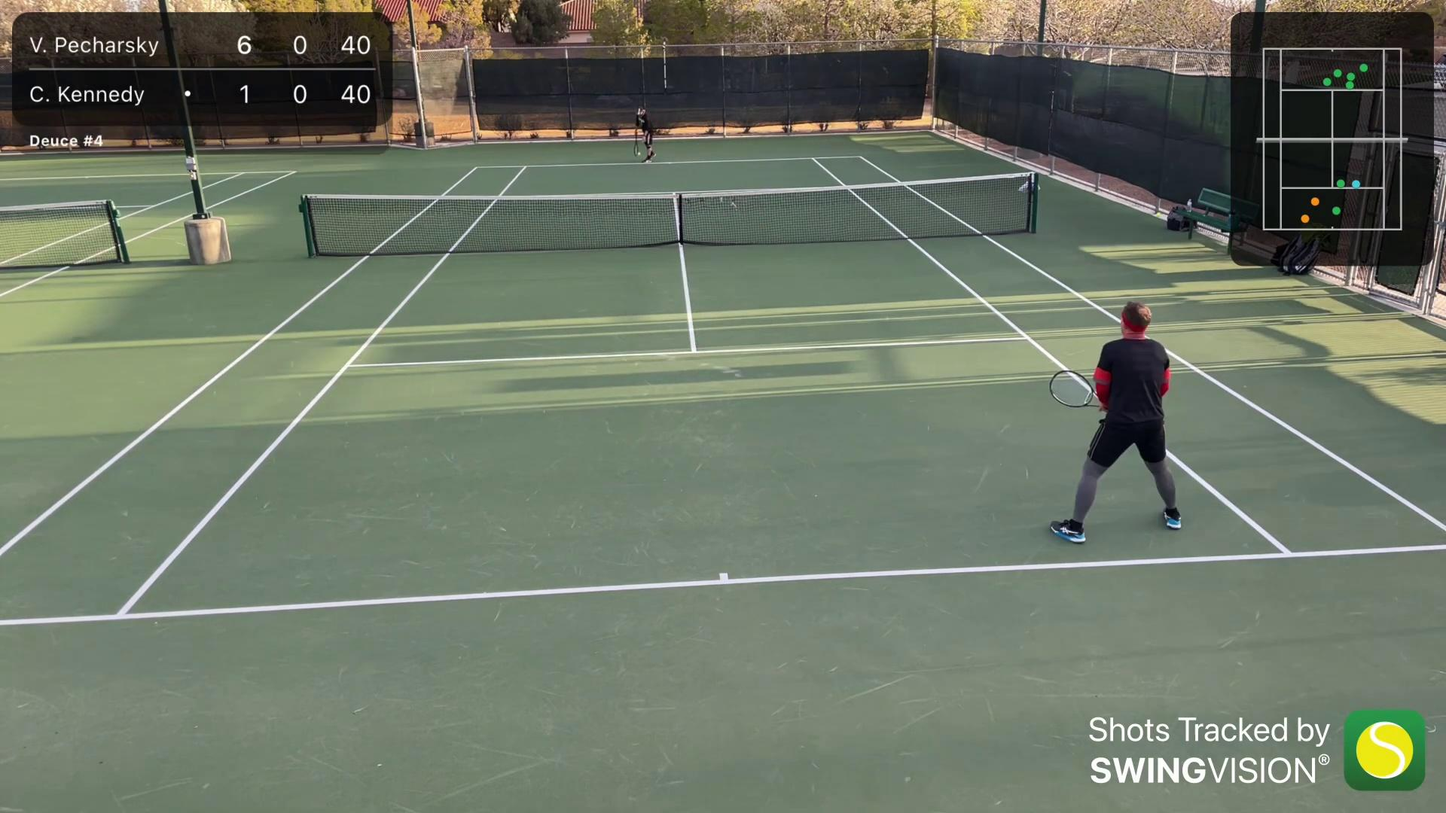ball: (636, 150, 642, 158), (1158, 215, 1161, 218)
